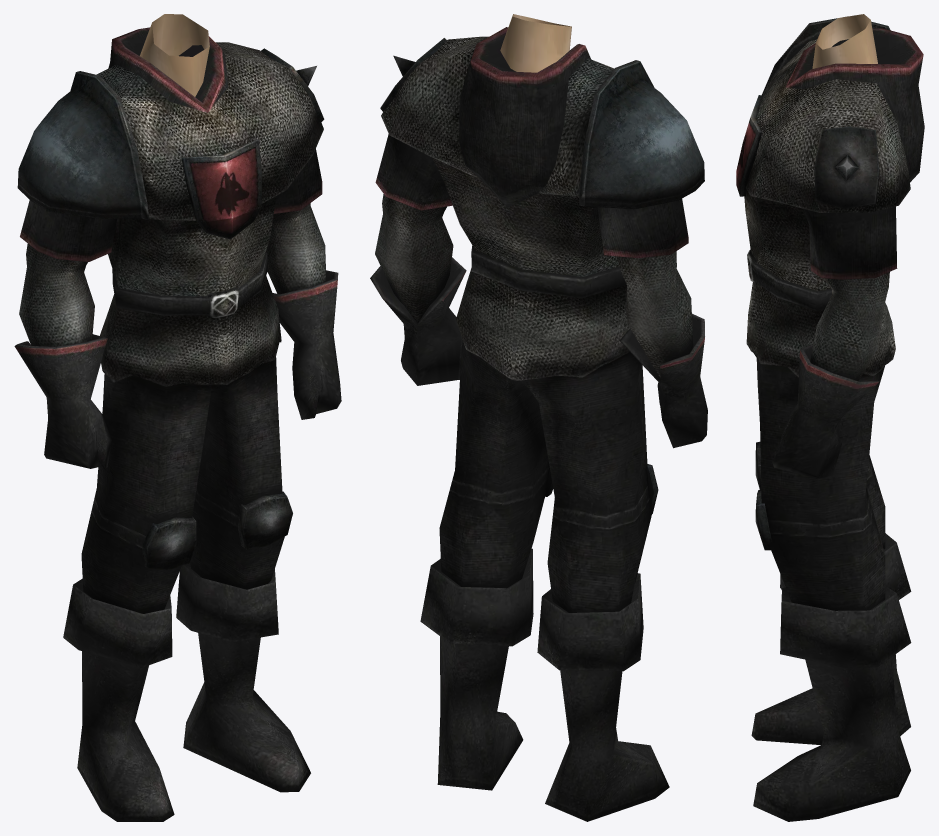
Rendered from KM_CH_DETLOW_ARMOR.glb.
The picture shows the model from 3 angles, left to right: view 1: azimuth 30°, elevation 25°; view 2: azimuth 150°, elevation 25°; view 3: azimuth 270°, elevation 25°; orthographic projection. The views are drawn at different scales.
Visible parts, largest first — view 1: KM_CH_DETLOW_ARMOR; view 2: KM_CH_DETLOW_ARMOR; view 3: KM_CH_DETLOW_ARMOR.
Boxes of the visible parts, left/top/right/bottom form: KM_CH_DETLOW_ARMOR: left=14, top=14, right=341, bottom=821; KM_CH_DETLOW_ARMOR: left=370, top=14, right=707, bottom=821; KM_CH_DETLOW_ARMOR: left=736, top=14, right=924, bottom=821.
Bounding box in the file's own units: 0.7307 × 1.7 × 0.3856.
Materials: 3 (3 with a texture image).
